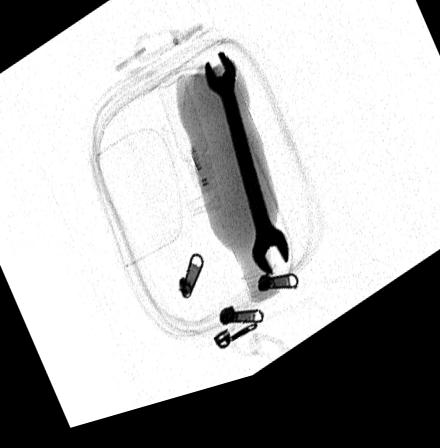Wrench: (202, 62, 288, 292)
